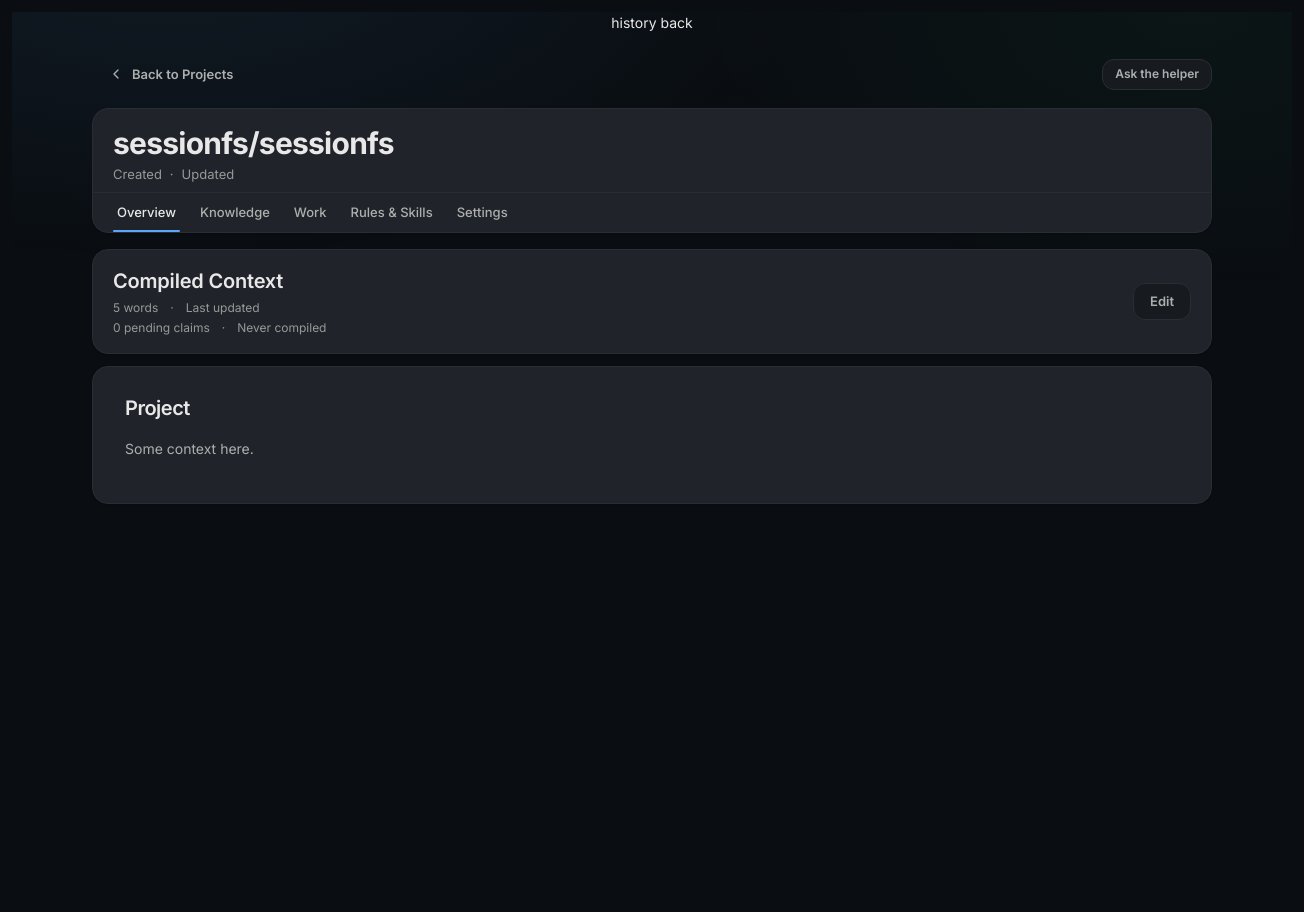
Test: ProjectDetail › clicking Edit Context Document opens the draft editor
What coordinates should you click on to do the following:
click the button "Edit"
I would click on:
 (1162, 301)
Its box is x1=1133 y1=283 x2=1191 y2=320.
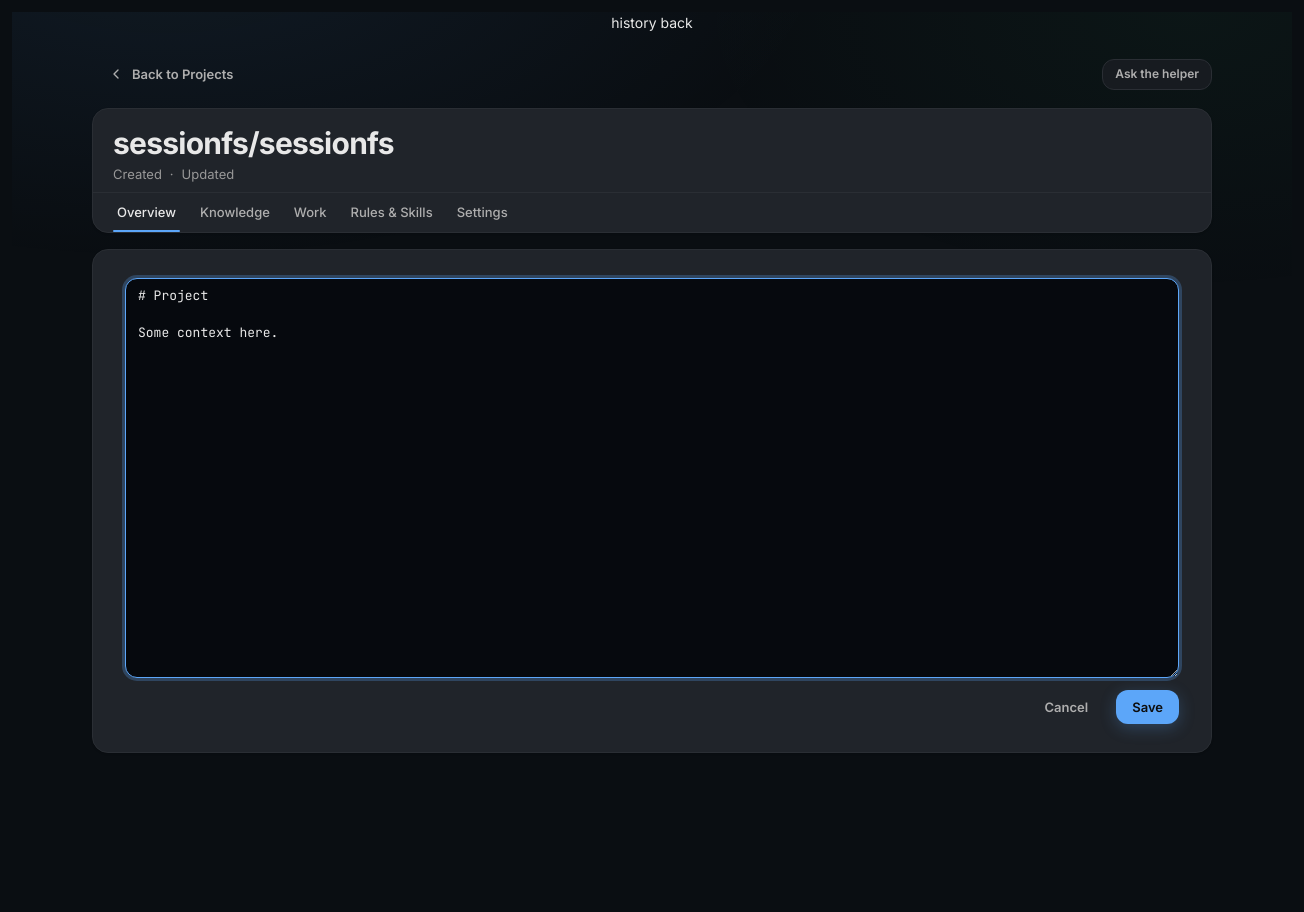
Result: the text box is shown at x1=125 y1=278 x2=1179 y2=678
